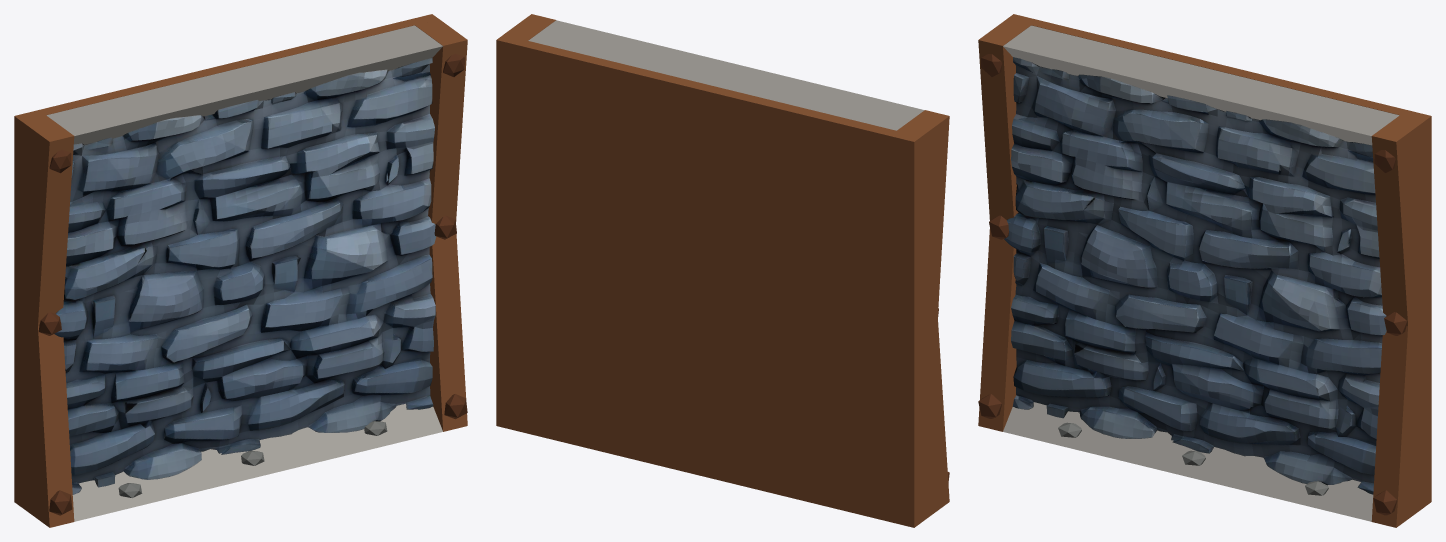
The model's file is Wall.fbx.
3 renders of one model, left to right at view 1: azimuth 30°, elevation 25°; view 2: azimuth 150°, elevation 25°; view 3: azimuth 330°, elevation 25°, orthographic.
Parts seen in each view (by area): view 1: wall_optim, Cube.003, Cube.002, Cube.004, Cube.005, Cube, Cube.006; view 2: Cube, Cube.003, Cube.005, Cube.006, Cube.002; view 3: wall_optim, Cube.002, Cube.003, Cube.004, Cube.005, Cube, Cube.006.
Part boxes in pixels (box(x1,y1,x2,y2)): wall_optim: box(54, 57, 436, 494); Cube.003: box(21, 115, 74, 527); Cube.002: box(415, 19, 467, 431); Cube.004: box(72, 403, 442, 521); Cube.005: box(61, 36, 442, 144); Cube: box(14, 14, 438, 506); Cube.006: box(46, 25, 428, 125); Cube: box(496, 35, 921, 527); Cube.003: box(897, 110, 949, 522); Cube.005: box(542, 20, 924, 120); Cube.006: box(528, 30, 910, 130); Cube.002: box(503, 14, 555, 40); wall_optim: box(1004, 57, 1386, 494); Cube.002: box(1371, 115, 1424, 527); Cube.003: box(978, 19, 1030, 431); Cube.004: box(1003, 402, 1373, 521); Cube.005: box(1003, 36, 1385, 145); Cube: box(1007, 14, 1431, 506); Cube.006: box(1017, 25, 1399, 125).
Size of the model in its own units: 6.8 by 6 by 1.14.
